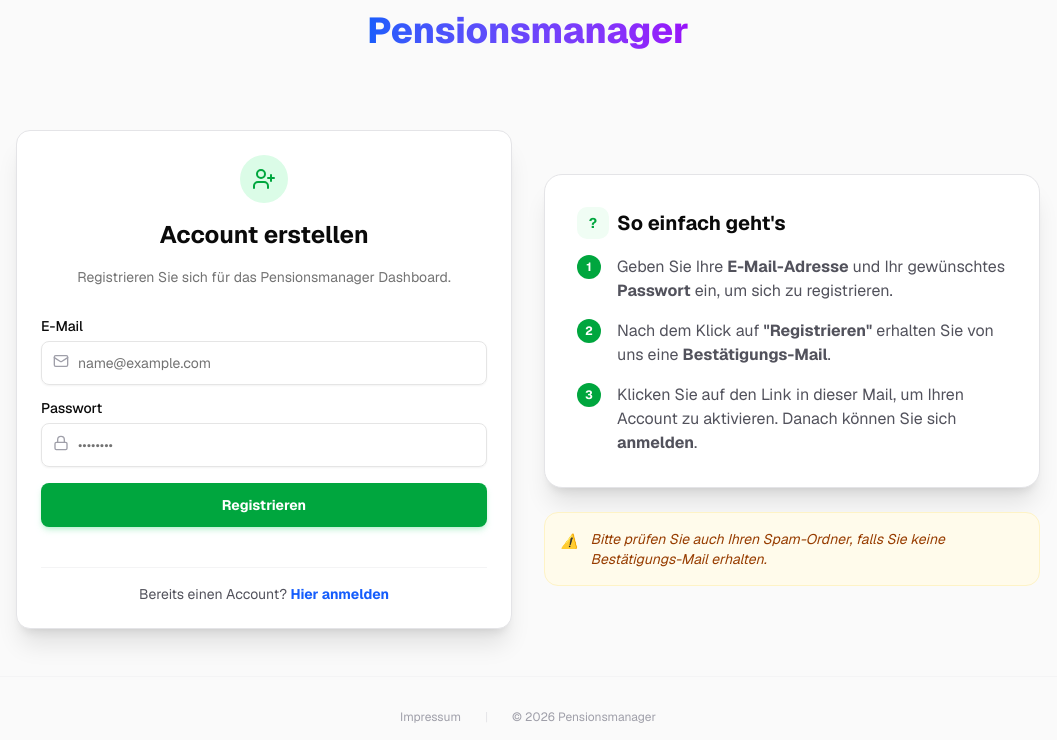
RegisterPage › shows success message if registration is successful (has identities)
Type "new@example.com" into the field with placeholder "name@example.com" at [264, 363], box [41,341,487,385]
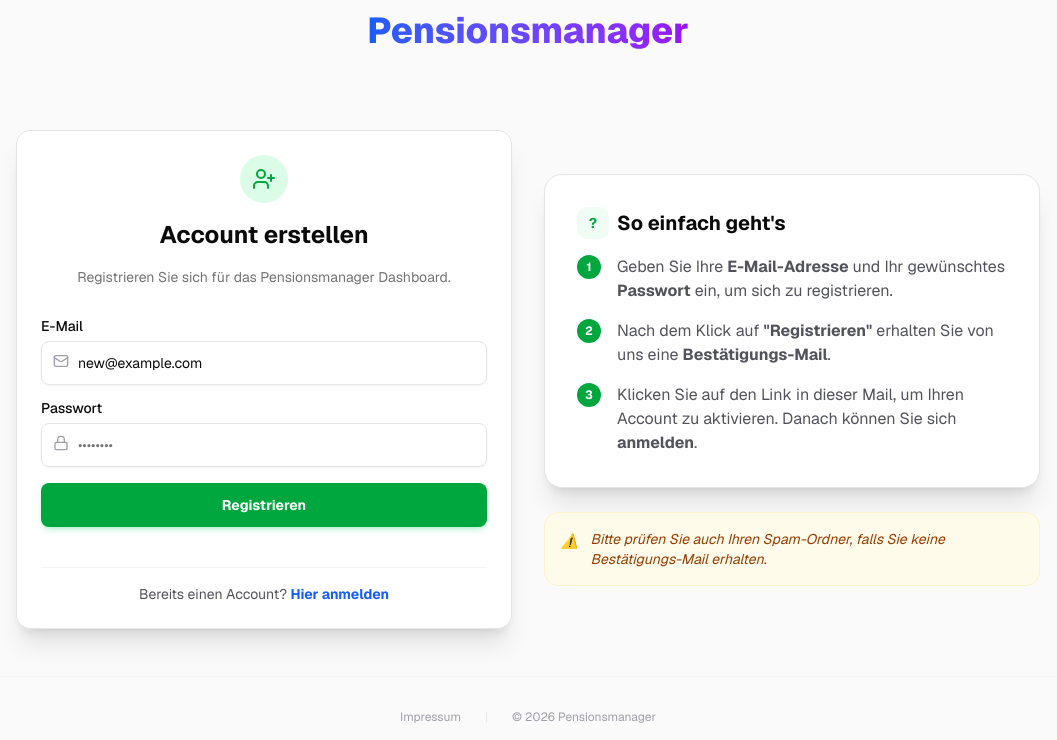
Type "password123" into the password field with placeholder "••••••••" at [264, 445], box [41,423,487,467]
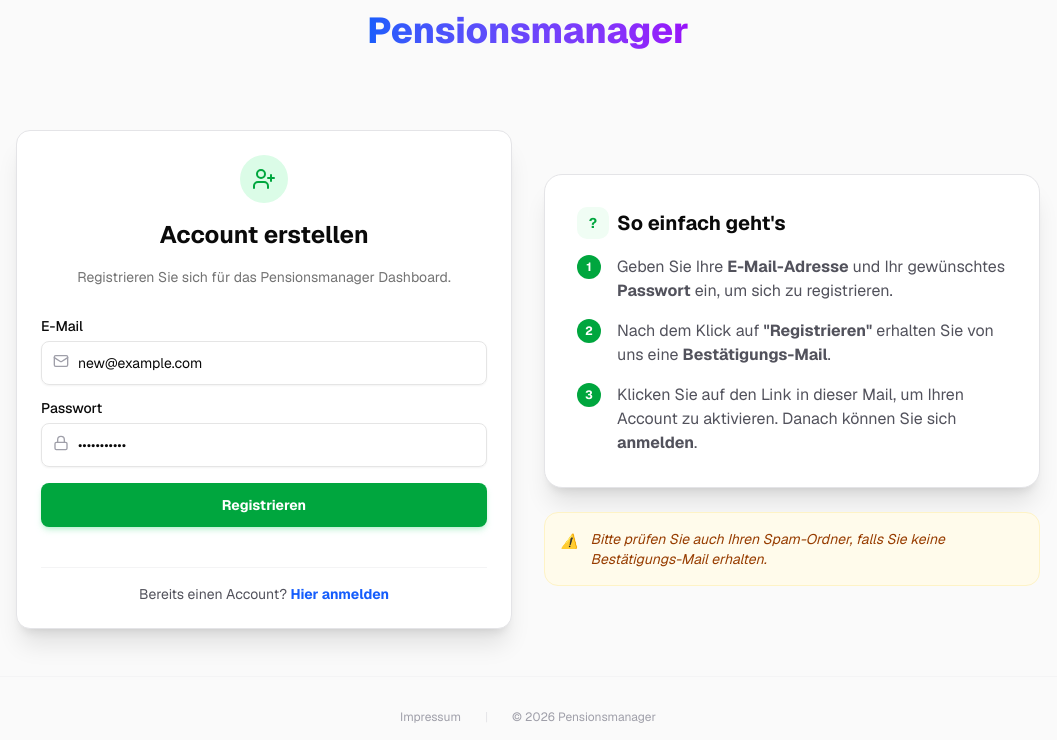
Click the button "Registrieren" at [264, 505], box [41,483,487,527]
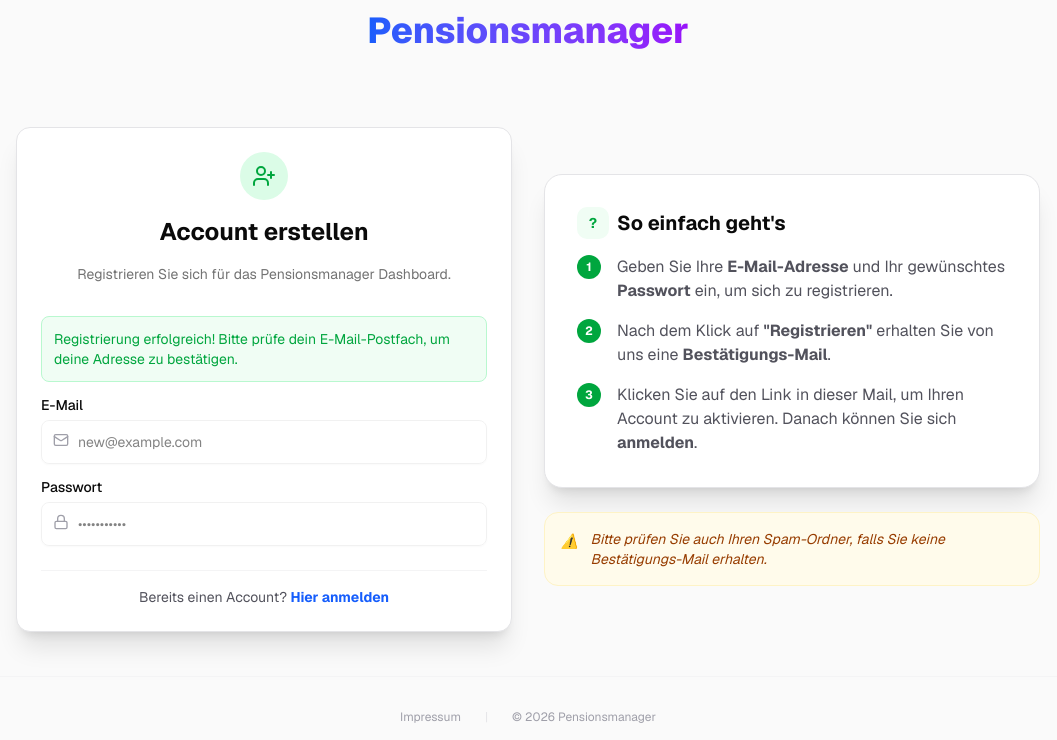
Check: the text "Registrierung erfolgreich" is shown, box [54,330,450,368]
